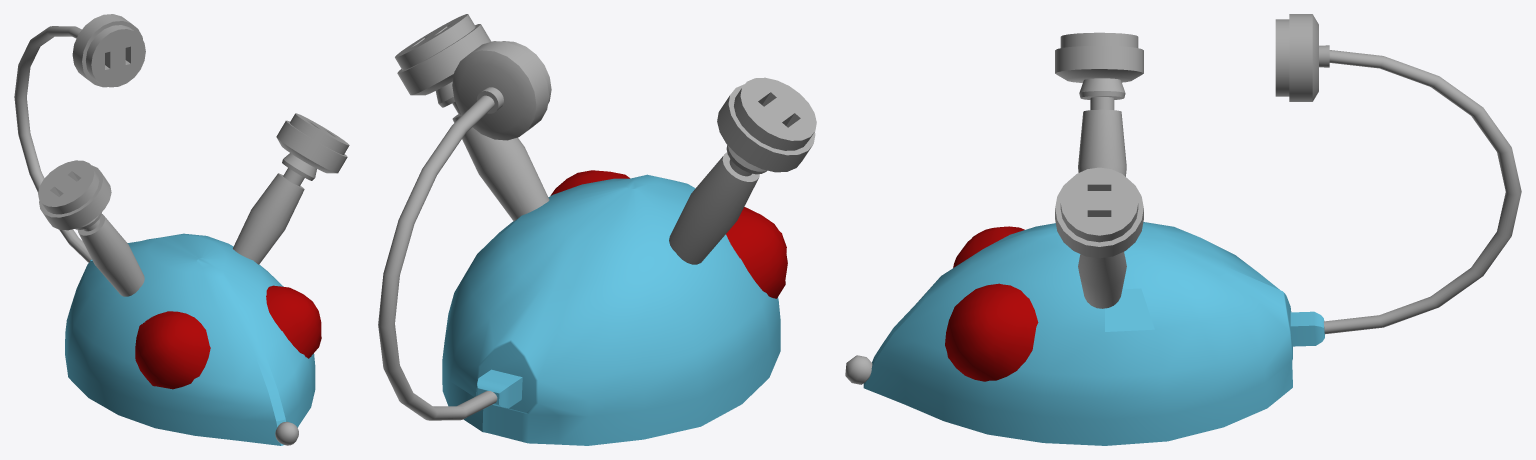
Rendered from Squeek Collider Holder.fbx.
The picture shows the model from 3 angles, left to right: view 1: azimuth 30°, elevation 25°; view 2: azimuth 150°, elevation 25°; view 3: azimuth 270°, elevation 25°; orthographic projection. The views are drawn at different scales.
Visible parts, largest first — view 1: body1, eye, plug1, ear, plug, ear2, tail, plug2, eye2, nose; view 2: body1, tail, plug, plug1, ear2, ear, plug2, eye, eye2; view 3: body1, tail, eye2, plug2, plug, ear2, plug1, ear, eye.
Boxes of the visible parts, bbox=[...] form: body1: bbox=[65, 233, 315, 445]; eye: bbox=[135, 311, 210, 389]; plug1: bbox=[72, 14, 145, 87]; ear: bbox=[233, 153, 316, 264]; plug: bbox=[38, 160, 111, 230]; ear2: bbox=[75, 212, 144, 296]; tail: bbox=[14, 26, 91, 262]; plug2: bbox=[276, 113, 349, 173]; eye2: bbox=[266, 285, 321, 358]; nose: bbox=[275, 421, 298, 445]; body1: bbox=[442, 174, 780, 445]; tail: bbox=[378, 95, 497, 420]; plug: bbox=[717, 77, 816, 172]; plug1: bbox=[452, 41, 551, 140]; ear2: bbox=[669, 145, 766, 264]; ear: bbox=[435, 81, 549, 221]; plug2: bbox=[395, 14, 491, 95]; eye: bbox=[726, 207, 787, 298]; eye2: bbox=[550, 170, 629, 195]; body1: bbox=[863, 222, 1324, 445]; tail: bbox=[1323, 50, 1521, 334]; eye2: bbox=[945, 283, 1038, 381]; plug2: bbox=[1055, 167, 1143, 258]; plug: bbox=[1055, 32, 1143, 82]; ear2: bbox=[1078, 78, 1126, 176]; plug1: bbox=[1275, 14, 1318, 101]; ear: bbox=[1078, 252, 1126, 308]; eye: bbox=[953, 226, 1024, 267].
Bounding box in the file's own units: 9.71 × 9.46 × 15.24.
